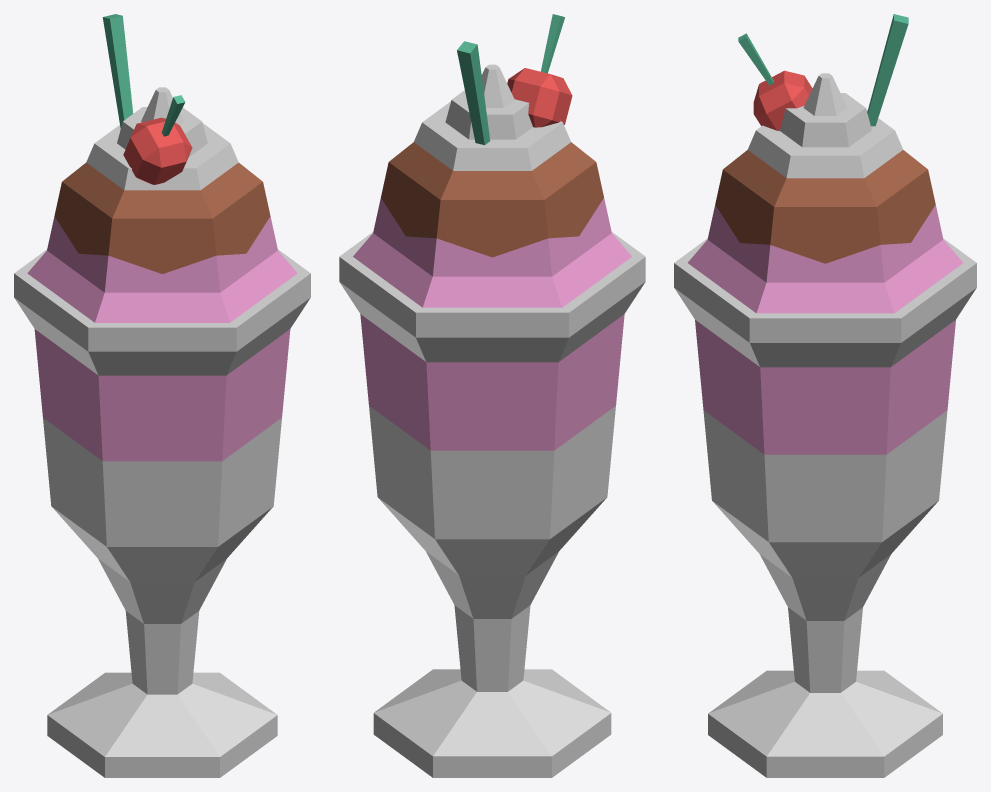
The model's file is sundae.obj.
The picture shows the model from 3 angles, left to right: view 1: azimuth 30°, elevation 25°; view 2: azimuth 150°, elevation 25°; view 3: azimuth 270°, elevation 25°; orthographic projection. The views are drawn at different scales.
Visible parts, largest first — view 1: sundae, cherry, straw; view 2: sundae, cherry, straw; view 3: sundae, cherry, straw.
Boxes of the visible parts, x1,y1,x2,y2 form: sundae: (14,87,310,777); cherry: (123,95,192,184); straw: (102,14,133,128); sundae: (339,64,645,777); cherry: (507,14,572,127); straw: (457,41,490,145); sundae: (674,73,976,777); cherry: (738,33,812,130); straw: (867,14,908,126).
Bounding box in the file's own units: 0.2232 × 0.6679 × 0.2577.
